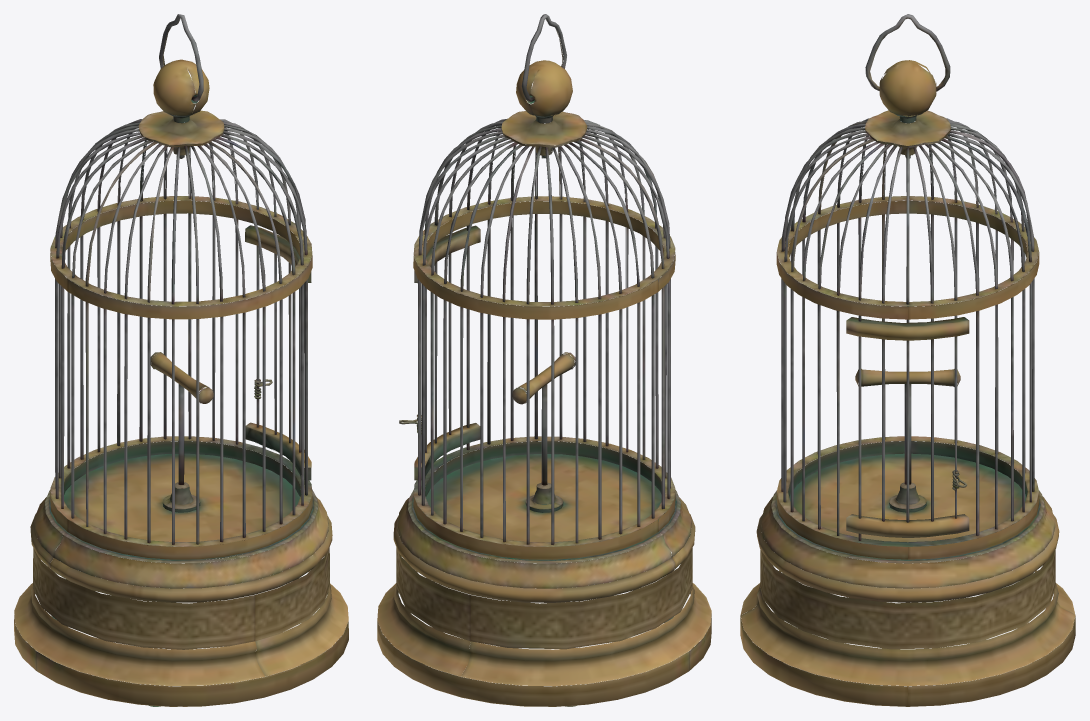
The model's file is obj_birdcage_2.glb.
3 renders of one model, left to right at view 1: azimuth 30°, elevation 25°; view 2: azimuth 150°, elevation 25°; view 3: azimuth 270°, elevation 25°, orthographic.
Visible parts, largest first — view 1: Object_2; view 2: Object_2; view 3: Object_2.
Part boxes in pixels (x1,y1,x2,y2): Object_2: [14, 14, 348, 706]; Object_2: [377, 14, 711, 706]; Object_2: [740, 14, 1075, 706].
Size of the model in its own units: 0.241 by 0.4998 by 0.241.
Materials: 1 (1 with a texture image).
